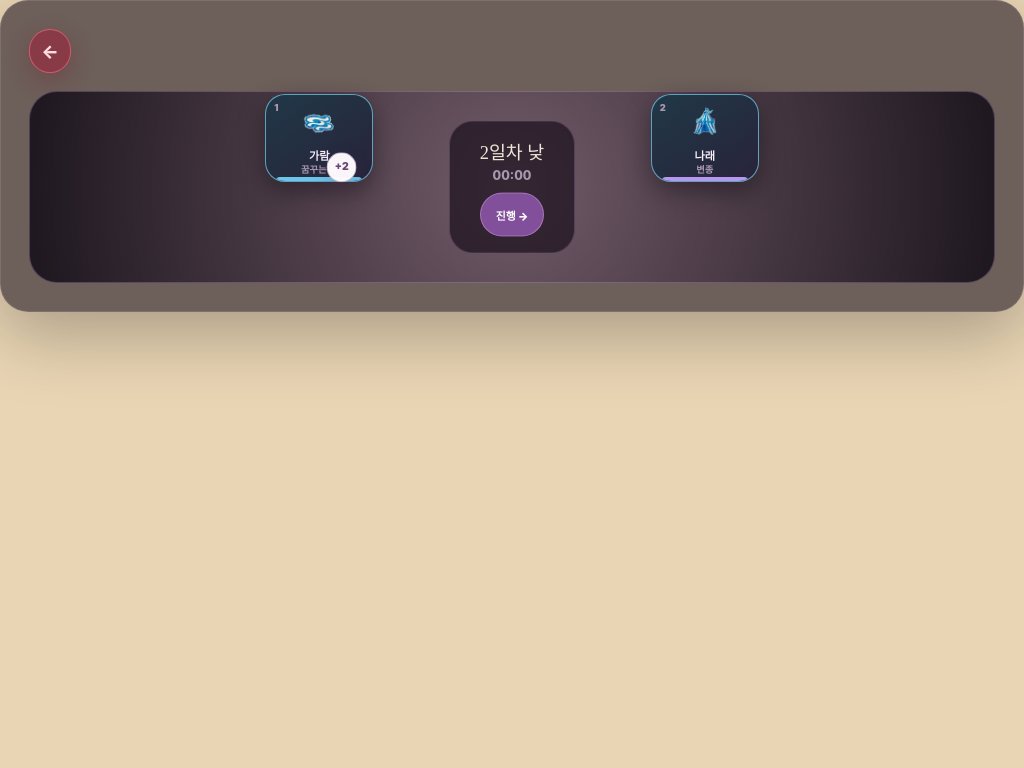
Test: omits every token surface when a player has no tokens
The width and height of the screenshot is (1024, 768).
Click the button with aria-label "2번 좌석, 나래, 변종, 토큰 없음, 생존" at (705, 138), box [651, 94, 759, 182]
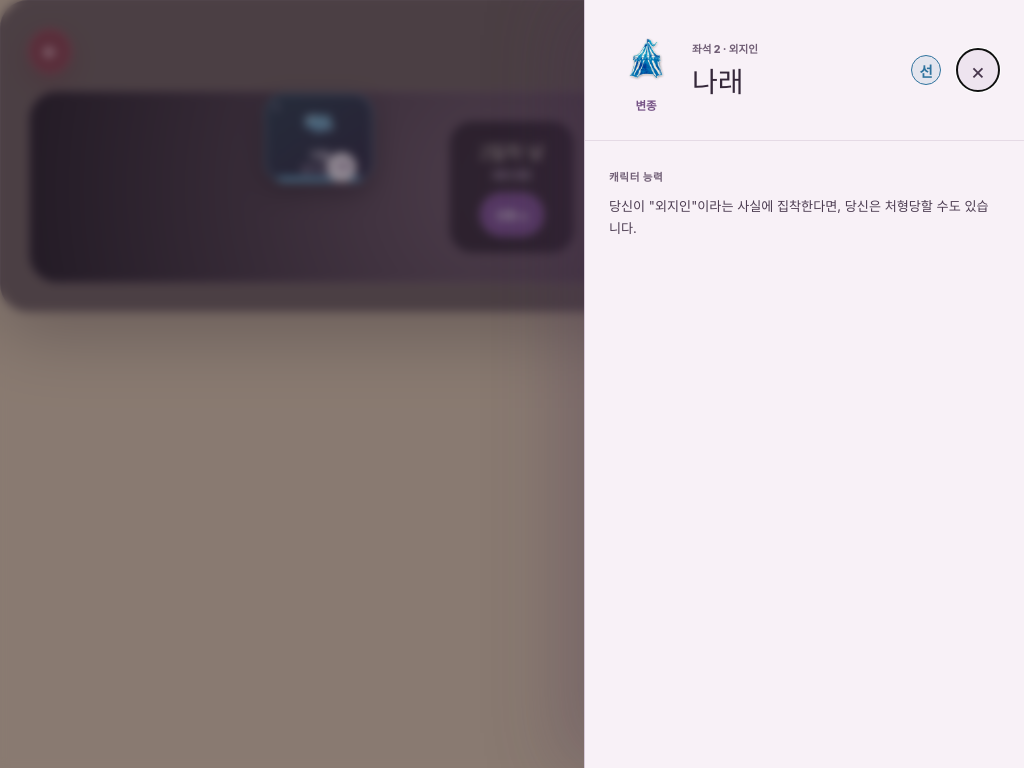
Result: the text "변종" is shown at [635, 97, 657, 113]
